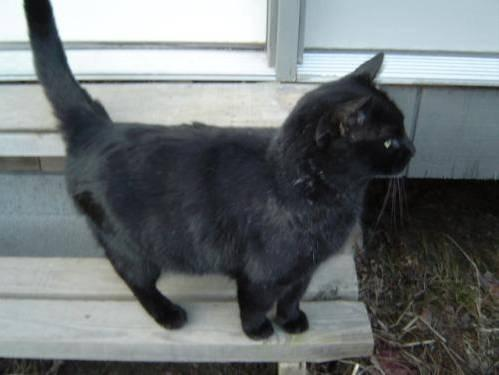cat: (25, 0, 414, 338)
